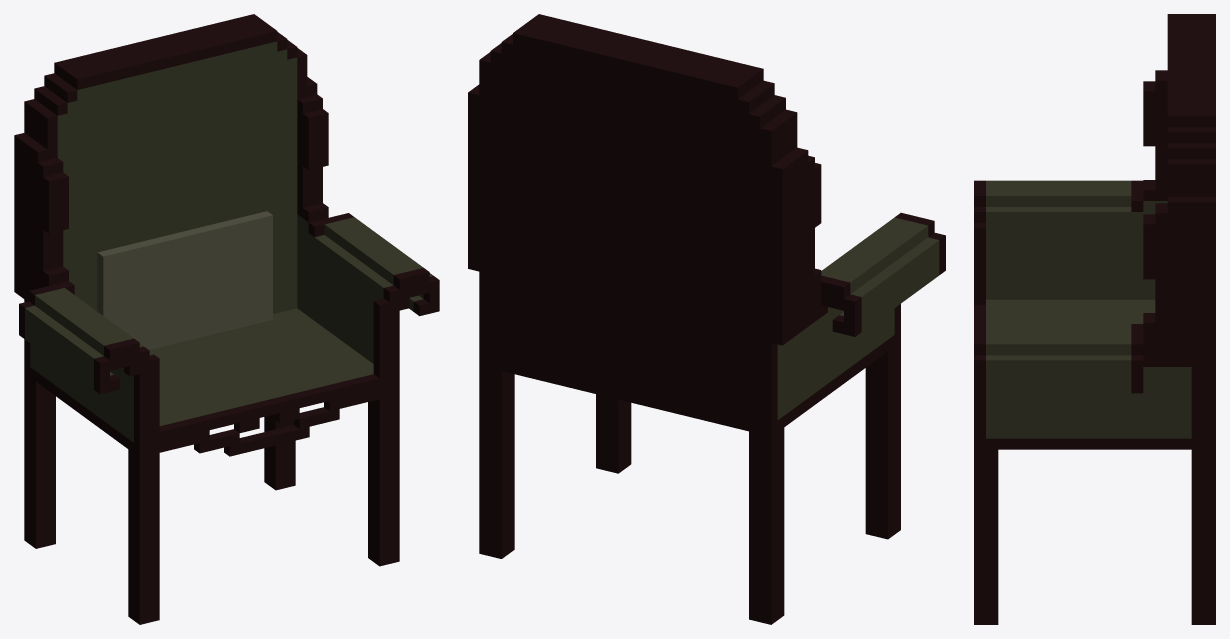
The model's file is Chaise rustique.obj.
The picture shows the model from 3 angles, left to right: view 1: azimuth 30°, elevation 25°; view 2: azimuth 150°, elevation 25°; view 3: azimuth 270°, elevation 25°; orthographic projection. The views are drawn at different scales.
Visible parts, largest first — view 1: Chaise rustique; view 2: Chaise rustique; view 3: Chaise rustique.
Part boxes in pixels (x1,y1,x2,y2): Chaise rustique: (14, 14, 439, 624); Chaise rustique: (468, 14, 945, 624); Chaise rustique: (974, 14, 1215, 624).
Size of the model in its own units: 34 by 45 by 20.
Materials: 1 (1 with a texture image).
